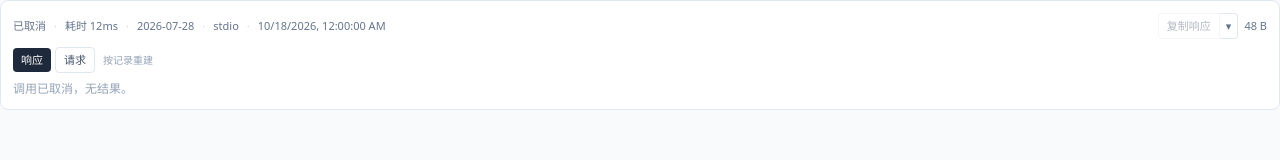
Scenario: ResultViewer 请求/响应页签 › 取消记录请求页可用，响应页显示无结果
Expected: the text "调用已取消，无结果。" is shown, [13,80,133,97]
Click the button "请求" at x=75, y=60, box [55,47,95,73]
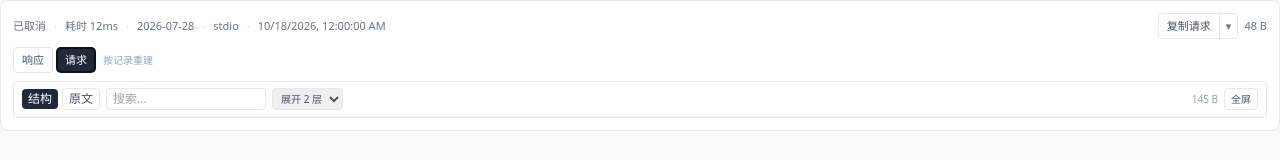
Expected: the button "复制请求" is enabled, [1158,13,1220,39]
